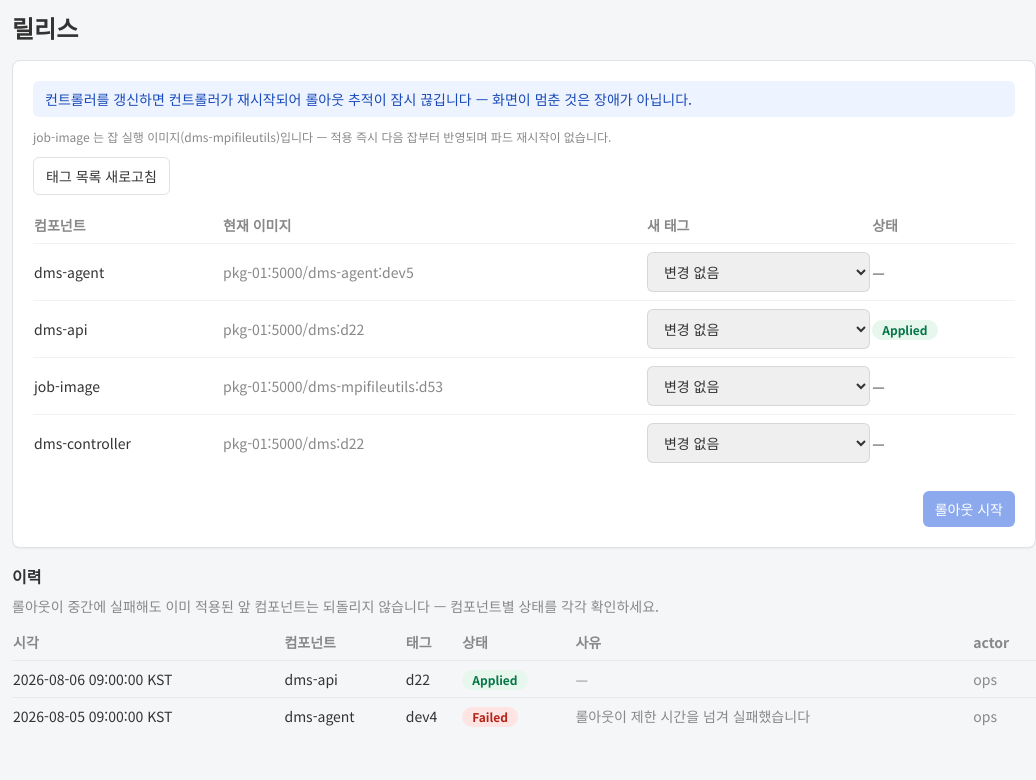
ReleasesPage › 서버 거절을 한국어로 보여준다
Expected: the heading "릴리스" is shown, [12,12,78,44]
Select "dev5 (현재)" in the dropdown named "dms-agent". click: [759, 272]
box: [647,252,870,292]
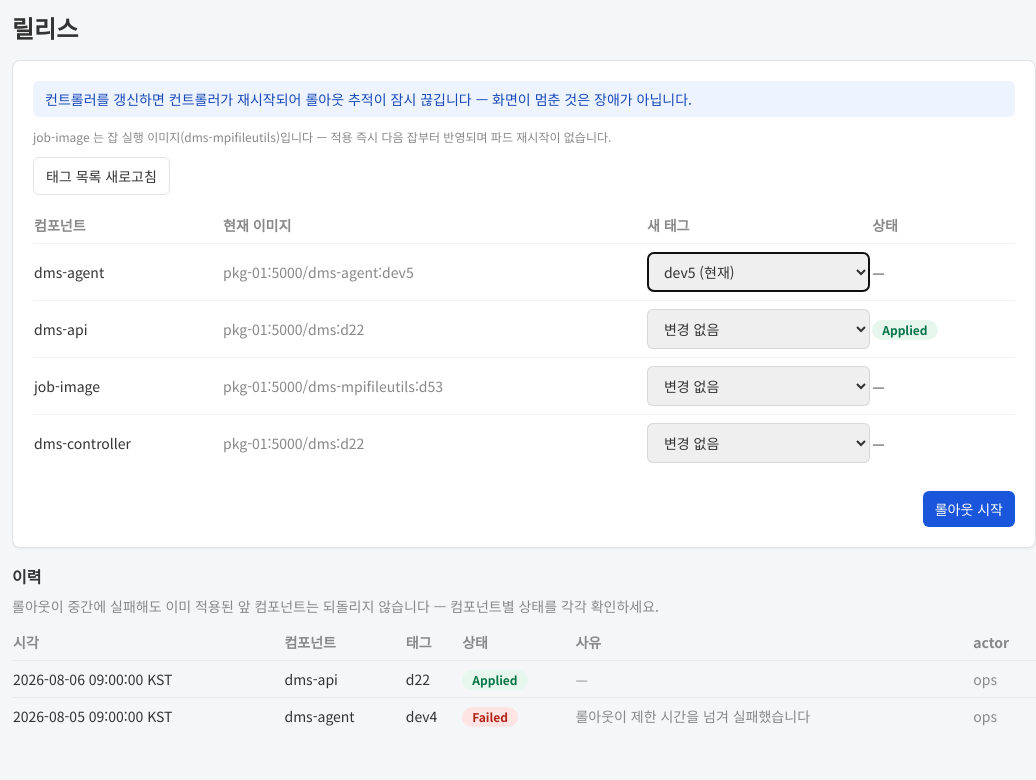
Click the button "롤아웃 시작". click: [969, 509]
box: [923,491,1015,527]
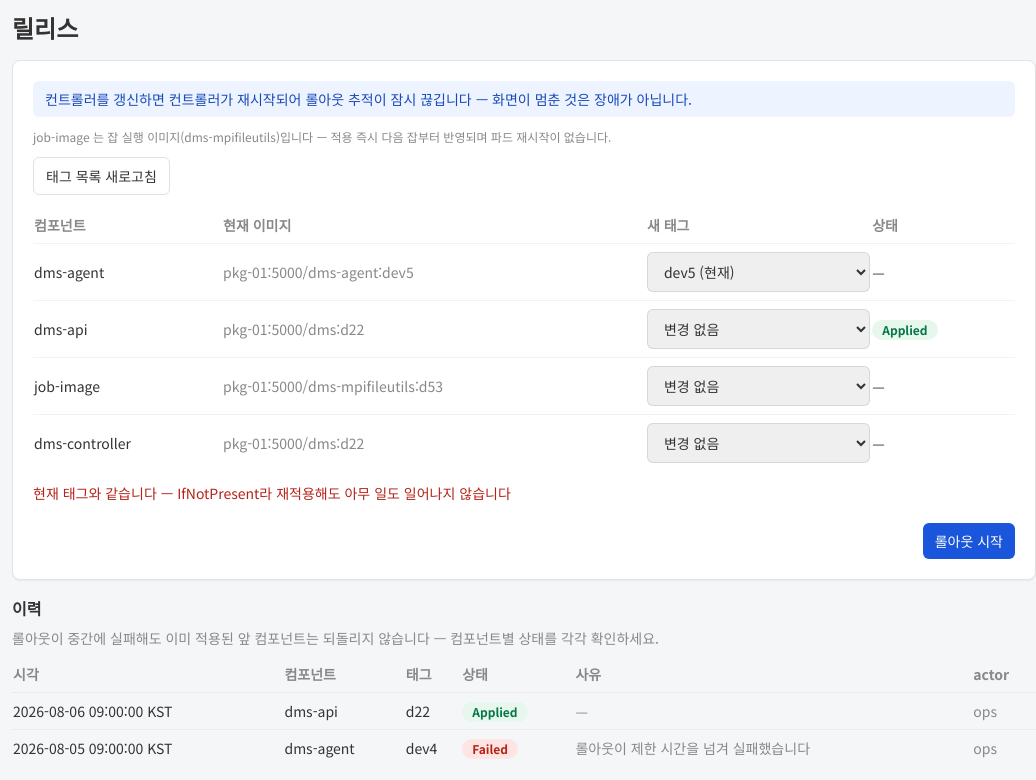
Expected: the text "현재 태그와 같습니다 — IfNotPresent라 재적용해도 아무 일도 일어나지 않습니다" is shown, [33,483,511,503]
